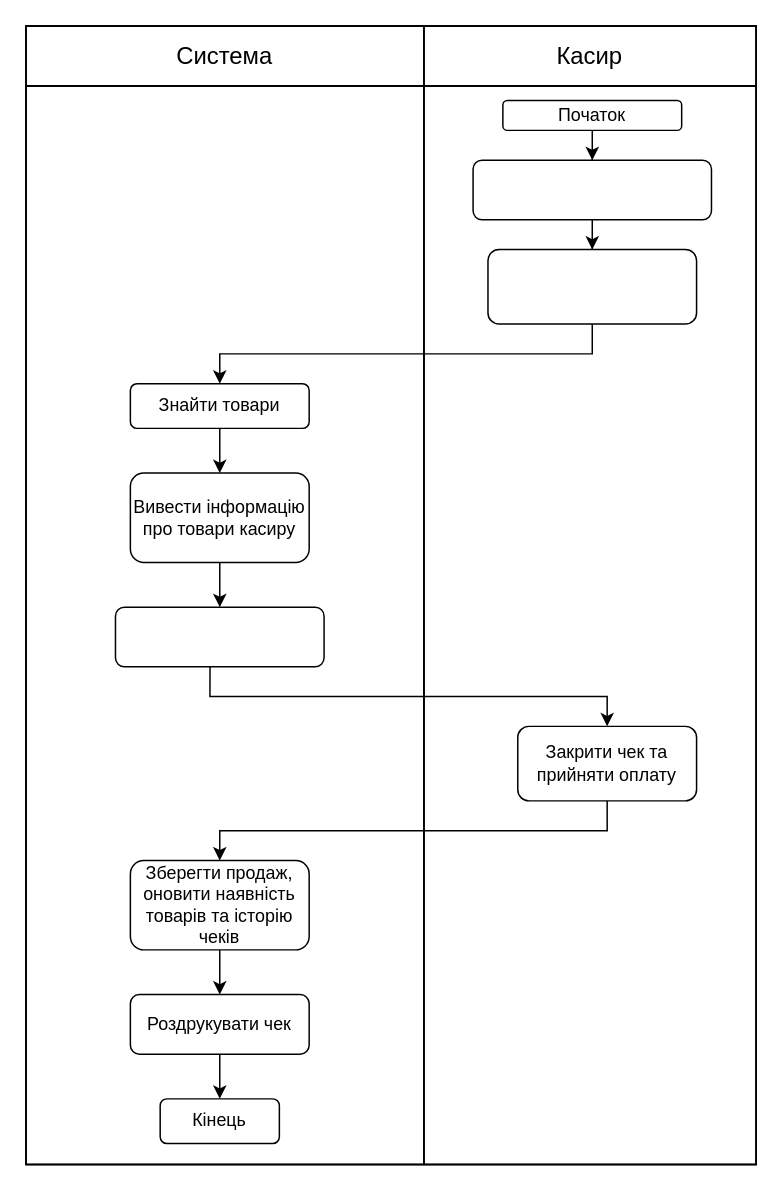
The diagram is 782 pixels wide and 1191 high, and some of its shapes have lost their labels. The shapes that lost their labels are listed below. From the top down, each one's box as (x1, y1, x2, y2) in pixels, then its label:
(472, 159, 711, 220): Відкрити форму продажу
(486, 248, 697, 324): Сканувати штрихкоди товарів
(114, 606, 324, 667): Обчислити суму чека
